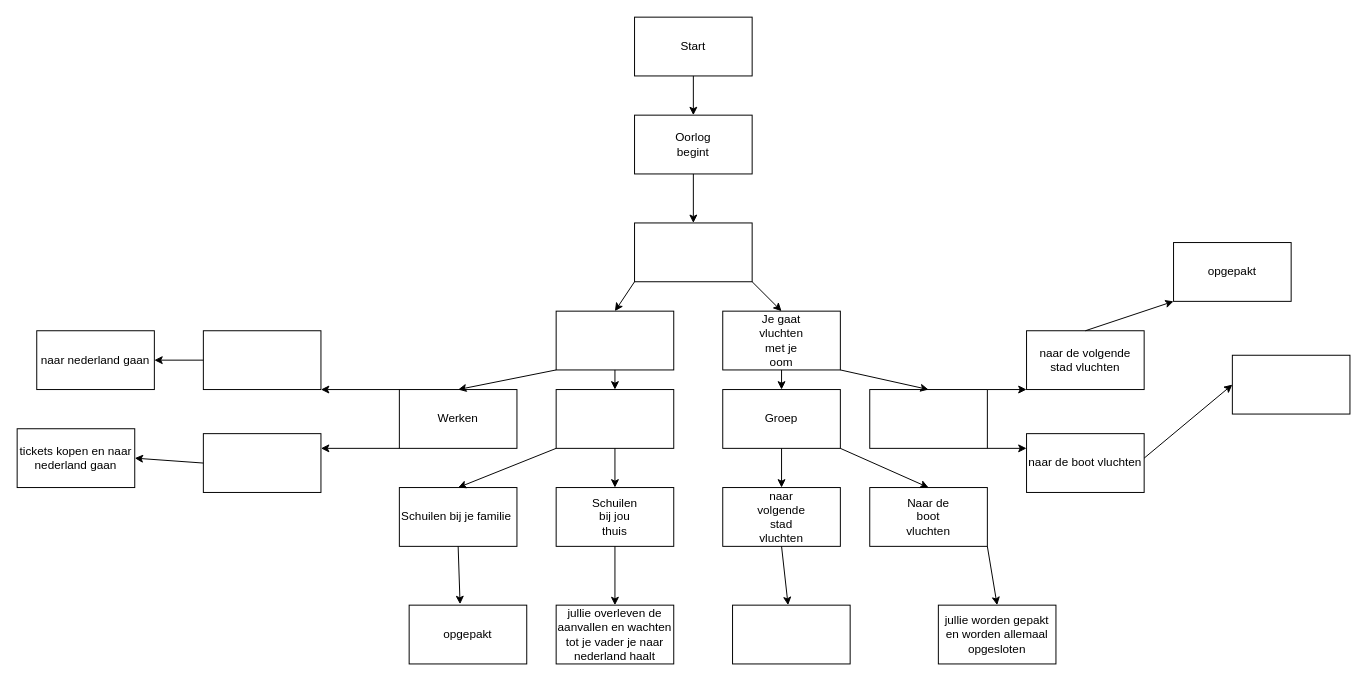
This 1367x681 diagram has some shape labels left out. Each missing label, with the centre of its shape:
"alleen met je oom" belongs at point (928, 418).
"genoeg geld sparen om te vluchten" belongs at point (261, 462).
"Inpakken" belongs at point (693, 252).
"jullie gaan naar turkije en gaan via daar naar nederland" belongs at point (1290, 384).
"jullie worden gesmokkeld naar nederland" belongs at point (791, 634).
"Schuilen" belongs at point (614, 418).
"Vader gaat vluchten jij blijft" belongs at point (614, 340).
"wachten tot je vader je naar nederland haalt" belongs at point (261, 360).
